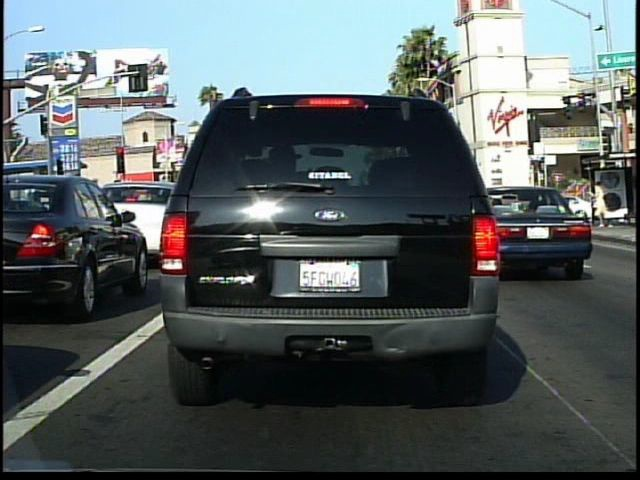person: (590, 174, 615, 232)
